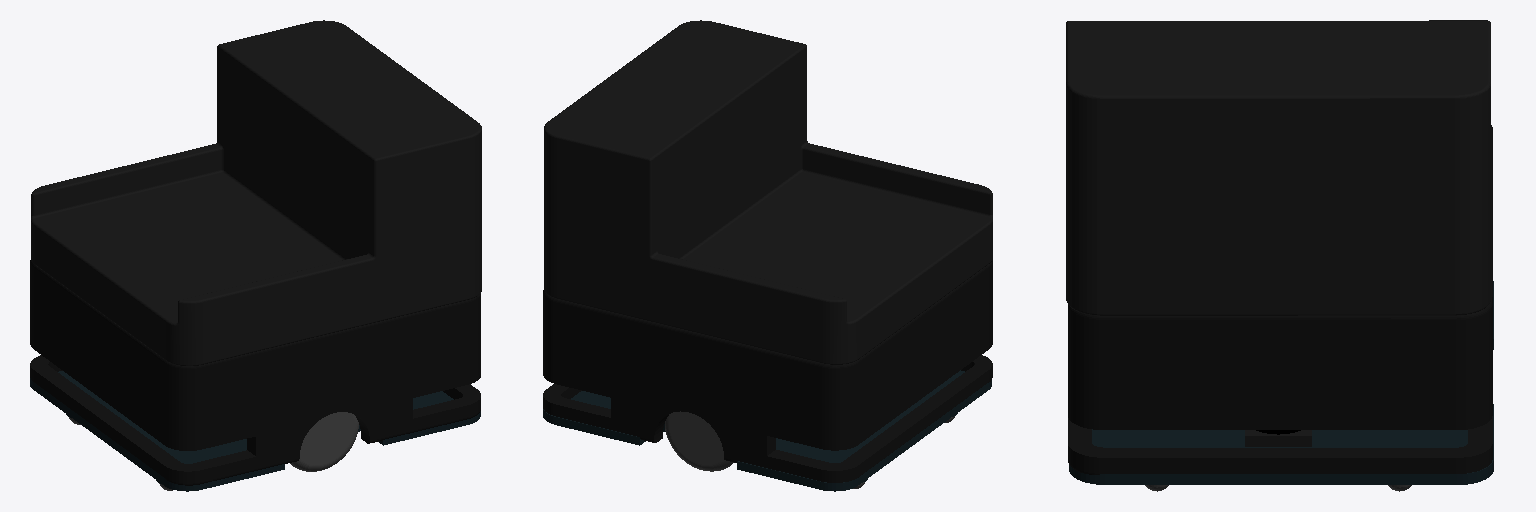
--- What the picture shows (computed from the rendered views, not written in the file) ---
3 views of the same robot in one strip: view 1: azimuth 30°, elevation 25°; view 2: azimuth 150°, elevation 25°; view 3: azimuth 270°, elevation 25° (orthographic).
Robot: Melon — 41 links, 40 joints (7 revolute, 14 continuous, 2 prismatic, 17 fixed); root link base_footprint; default pose: joints at zero except 2 at the middle of their limits (fr3_joint4 = -1.6, fr3_joint6 = 2.53).
Links seen in each view (by area): view 1: base_link, right_wheel_1; view 2: base_link, left_wheel_1; view 3: base_link, base_scan.
Boxes of the visible links, x1,y1,x2,y2 form: base_link: (30,20,481,491); right_wheel_1: (290,412,358,471); base_link: (543,20,992,491); left_wheel_1: (665,411,733,471); base_link: (1066,20,1493,484); base_scan: (1245,430,1311,446).
Size in the robot's own frame: 0.8005 by 0.7056 by 0.765 metres.
Meshes: 17 distinct files referenced, 10 mesh visuals loaded (7 binary STL); not drawn: 11 (reference not matched to a file when rendering), 1 (reference in a form the renderer does not follow; not among the files counted above).

robot.urdf — Melon:
<?xml version="1.0" ?>
<!-- =================================================================================== -->
<!-- |    This document was autogenerated by xacro from melon.urdf.xacro               | -->
<!-- |    EDITING THIS FILE BY HAND IS NOT RECOMMENDED                                 | -->
<!-- =================================================================================== -->
<robot name="Melon">
  <material name="dark_blue">
    <color rgba="0.0 0.5 0.576 1.0"/>
  </material>
  <material name="black">
    <color rgba="0.0 0.0 0.0 1.0"/>
  </material>
  <material name="dark_black">
    <color rgba="0.1 0.1 0.1 1.0"/>
  </material>
  <material name="dark">
    <color rgba="0.3 0.3 0.3 1.0"/>
  </material>
  <material name="silver">
    <color rgba="0.700 0.700 0.700 1.000"/>
  </material>
  <material name="smokey_blue">
    <color rgba="0.25 0.31 0.33 1.00"/>
  </material>
  <material name="midnight_blue">
    <color rgba="0.10 0.15 0.17 1.0"/>
  </material>
  <material name="gray_blue">
    <color rgba="0.271 0.294 0.306 1.0"/>
  </material>
  <material name="ocean_blue">
    <color rgba="0.247 0.400 0.627 1.0"/>
  </material>
  <material name="charcoal">
    <color rgba="0.129 0.129 0.129 1.0"/>
  </material>
  <material name="steel_gray">
    <color rgba="0.325 0.376 0.392 1.0"/>
  </material>
  <!-- <xacro:include filename="$(find melon_description)/urdf/base_v2.gazebo.xacro" /> -->
  <!-- <xacro:base prefix=""/> -->
  <material name="aluminum">
    <color rgba="0.5 0.5 0.5 1"/>
  </material>
  <material name="plastic">
    <color rgba="0.1 0.1 0.1 1"/>
  </material>
  <!-- base -->
  <link name="base_footprint"/>
  <joint name="base_joint" type="fixed">
    <parent link="base_footprint"/>
    <child link="base_link"/>
    <origin rpy="0 0 0" xyz="0 0 0"/>
  </joint>
  <link name="base_link">
    <inertial>
      <origin rpy="0 0 1.57" xyz="0.01744420260337036 0.0763481410355218 0.4235647920657504"/>
      <mass value="50.0"/>
      <inertia ixx="16.050446" ixy="0.002034" ixz="0.007151" iyy="13.982493" iyz="-2.999695" izz="18.567703"/>
    </inertial>
    <!-- <visual>
        <origin xyz="0 0 0" rpy="0 0 1.57"/>
        <geometry>
          <mesh filename="package://melon_description/meshes/base_link.stl" scale="0.001 0.001 0.001"/>
        </geometry>
        <material name="silver"/>
      </visual>
      <collision>
        <origin xyz="0 0 0" rpy="0 0 1.57"/>
        <geometry>
          <mesh filename="package://melon_description/meshes/base_link.stl" scale="0.001 0.001 0.001"/>
        </geometry>
      </collision> -->
    <!-- body -->
    <visual>
      <origin rpy="0 0 1.57" xyz="-0.002 0.005 0.05"/>
      <geometry>
        <mesh filename="package://melon_description/meshes/body_1.stl" scale="0.001 0.001 0.001"/>
      </geometry>
      <material name="midnight_blue"/>
    </visual>
    <collision>
      <origin rpy="0 0 1.57" xyz="-0.002 0.005 0.05"/>
      <geometry>
        <mesh filename="package://melon_description/meshes/body_1.stl" scale="0.001 0.001 0.001"/>
      </geometry>
    </collision>
    <visual>
      <origin rpy="0 0 1.57" xyz="0.0075 0.678 0.069"/>
      <geometry>
        <mesh filename="package://melon_description/meshes/body_2.stl" scale="0.001 0.001 0.001"/>
      </geometry>
      <material name="dark_black"/>
    </visual>
    <collision>
      <origin rpy="0 0 1.57" xyz="0.0075 0.678 0.069"/>
      <geometry>
        <mesh filename="package://melon_description/meshes/body_2.stl" scale="0.001 0.001 0.001"/>
      </geometry>
    </collision>
    <visual>
      <origin rpy="0 0 -1.57" xyz="0.027 0.025 0.37"/>
      <geometry>
        <mesh filename="package://melon_description/meshes/body_3.stl" scale="0.001 0.001 0.001"/>
      </geometry>
      <material name="charcoal"/>
    </visual>
    <collision>
      <!-- <origin xyz="0.027 0.025 0.37" rpy="0 0 -1.57"/>
        <geometry>
          <mesh filename="package://melon_description/meshes/body_3.stl" scale="0.001 0.001 0.001"/>
        </geometry> -->
      <origin rpy="0 0 0" xyz="0.008 0.0 0.415"/>
      <geometry>
        <box size="0.8 0.7 0.1"/>
      </geometry>
    </collision>
    <collision>
      <origin rpy="0 0 0" xyz="0.258 0.0 0.615"/>
      <geometry>
        <box size="0.3 0.7 0.3"/>
      </geometry>
    </collision>
    <collision>
      <origin rpy="0 0 0" xyz="-0.14 0.335 0.495"/>
      <geometry>
        <box size="0.5 0.03 0.06"/>
      </geometry>
    </collision>
    <collision>
      <origin rpy="0 0 0" xyz="-0.14 -0.335 0.495"/>
      <geometry>
        <box size="0.5 0.03 0.06"/>
      </geometry>
    </collision>
    <!-- caster mount -->
    <visual>
      <origin rpy="3.14 0 1.57" xyz="0.3 0.200 0.06"/>
      <geometry>
        <mesh filename="package://melon_description/meshes/ballfoint.stl" scale="0.001 0.001 0.001"/>
      </geometry>
      <material name="midnight_blue"/>
    </visual>
    <collision>
      <origin rpy="3.14 0 1.57" xyz="0.3 0.200 0.06"/>
      <geometry>
        <mesh filename="package://melon_description/meshes/ballfoint.stl" scale="0.001 0.001 0.001"/>
      </geometry>
    </collision>
    <visual>
      <origin rpy="3.14 0 1.57" xyz="0.3 -0.200 0.06"/>
      <geometry>
        <mesh filename="package://melon_description/meshes/ballfoint.stl" scale="0.001 0.001 0.001"/>
      </geometry>
      <material name="midnight_blue"/>
    </visual>
    <collision>
      <origin rpy="3.14 0 1.57" xyz="0.3 -0.200 0.06"/>
      <geometry>
        <mesh filename="package://melon_description/meshes/ballfoint.stl" scale="0.001 0.001 0.001"/>
      </geometry>
    </collision>
    <visual>
      <origin rpy="3.14 0 1.57" xyz="-0.33 0.200 0.06"/>
      <geometry>
        <mesh filename="package://melon_description/meshes/ballfoint.stl" scale="0.001 0.001 0.001"/>
      </geometry>
      <material name="midnight_blue"/>
    </visual>
    <collision>
      <origin rpy="3.14 0 1.57" xyz="-0.33 0.200 0.06"/>
      <geometry>
        <mesh filename="package://melon_description/meshes/ballfoint.stl" scale="0.001 0.001 0.001"/>
      </geometry>
    </collision>
    <visual>
      <origin rpy="3.14 0 1.57" xyz="-0.33 -0.200 0.06"/>
      <geometry>
        <mesh filename="package://melon_description/meshes/ballfoint.stl" scale="0.001 0.001 0.001"/>
      </geometry>
      <material name="midnight_blue"/>
    </visual>
    <collision>
      <origin rpy="3.14 0 1.57" xyz="-0.33 -0.200 0.06"/>
      <geometry>
        <mesh filename="package://melon_description/meshes/ballfoint.stl" scale="0.001 0.001 0.001"/>
      </geometry>
    </collision>
  </link>
  <!-- wheels -->
  <joint name="right_wheel_joint" type="continuous">
    <origin rpy="0 0 1.57" xyz="0.007002 -0.242002 0.10065"/>
    <parent link="base_link"/>
    <child link="right_wheel_1"/>
    <axis xyz="1.0 0.0 0.0"/>
    <dynamics damping="1.0"/>
  </joint>
  <link name="right_wheel_1">
    <inertial>
      <origin rpy="0 0 0" xyz="-0.020080456317257633 -2.190901024334141e-07 -9.838097278502822e-08"/>
      <mass value="0.5"/>
      <inertia ixx="0.005139" ixy="-0.0" ixz="-0.0" iyy="0.002706" iyz="0.0" izz="0.002706"/>
    </inertial>
    <visual>
      <origin rpy="0 0 0" xyz="0.242002 0.007002 -0.10065"/>
      <geometry>
        <mesh filename="package://melon_description/meshes/right_wheel_1.stl" scale="0.001 0.001 0.001"/>
      </geometry>
      <material name="dark"/>
    </visual>
    <collision>
      <origin rpy="0 1.57 0" xyz="-0.04 0.0 0.0"/>
      <geometry>
        <cylinder length="0.05" radius="0.10065"/>
      </geometry>
    </collision>
  </link>
  <joint name="left_wheel_joint" type="continuous">
    <origin rpy="0 0 1.57" xyz="0.007002 0.279998 0.10065"/>
    <parent link="base_link"/>
    <child link="left_wheel_1"/>
    <axis xyz="1.0 0.0 0.0"/>
    <dynamics damping="1.0"/>
  </joint>
  <link name="left_wheel_1">
    <inertial>
      <origin rpy="0 0 0" xyz="0.019919543682742402 -2.1909010231892234e-07 -9.838097249359468e-08"/>
      <mass value="0.5"/>
      <inertia ixx="0.005139" ixy="0.0" ixz="0.0" iyy="0.002706" iyz="0.0" izz="0.002706"/>
    </inertial>
    <visual>
      <origin rpy="0 0 0" xyz="-0.277998 0.007002 -0.10065"/>
      <geometry>
        <mesh filename="package://melon_description/meshes/left_wheel_1.stl" scale="0.001 0.001 0.001"/>
      </geometry>
      <material name="dark"/>
    </visual>
    <collision>
      <origin rpy="0 1.57 0" xyz="0.01 0.0 0.0"/>
      <geometry>
        <cylinder length="0.05" radius="0.10065"/>
      </geometry>
    </collision>
  </link>
  <!-- passive wheel -->
  <!-- front left -->
  <joint name="front_left_passive_wheel_x_frame_joint" type="continuous">
    <parent link="base_link"/>
    <child link="front_left_passive_wheel_x_frame"/>
    <axis xyz="1.0 0.0 0.0"/>
    <limit effort="1.0" velocity="3.0"/>
    <origin rpy="0 0 0" xyz="0.3 0.2 0.025"/>
    <dynamics damping="1.0"/>
  </joint>
  <link name="front_left_passive_wheel_x_frame">
    <inertial>
      <mass value="0.2"/>
      <origin xyz="0 0 0"/>
      <inertia ixx="0.001" ixy="0" ixz="0" iyy="0.001" iyz="0" izz="0.001"/>
    </inertial>
  </link>
  <joint name="front_left_passive_wheel_y_frame_joint" type="continuous">
    <parent link="front_left_passive_wheel_x_frame"/>
    <child link="front_left_passive_wheel_y_frame"/>
    <axis xyz="0.0 1.0 0.0"/>
    <limit effort="1.0" velocity="3.0"/>
    <origin rpy="0 0 0" xyz="0 0 0"/>
    <dynamics damping="1.0"/>
  </joint>
  <link name="front_left_passive_wheel_y_frame">
    <inertial>
      <mass value="0.2"/>
      <origin xyz="0 0 0"/>
      <inertia ixx="0.001" ixy="0" ixz="0" iyy="0.001" iyz="0" izz="0.001"/>
    </inertial>
  </link>
  <joint name="front_left_passive_wheel_z_frame_joint" type="continuous">
    <parent link="front_left_passive_wheel_y_frame"/>
    <child link="front_left_passive_wheel_z_link"/>
    <axis xyz="0.0 0.0 1.0"/>
    <limit effort="1.0" velocity="3.0"/>
    <origin rpy="0 0 0" xyz="0 0 0"/>
    <dynamics damping="1.0"/>
  </joint>
  <link name="front_left_passive_wheel_z_link">
    <visual>
      <geometry>
        <sphere radius="0.025"/>
      </geometry>
      <material name="dark"/>
    </visual>
    <collision>
      <geometry>
        <sphere radius="0.025"/>
      </geometry>
    </collision>
    <inertial>
      <mass value="0.2"/>
      <origin xyz="0 0 0"/>
      <inertia ixx="0.001" ixy="0" ixz="0" iyy="0.001" iyz="0" izz="0.001"/>
    </inertial>
  </link>
  <!-- front right -->
  <joint name="front_right_passive_wheel_x_frame_joint" type="continuous">
    <parent link="base_link"/>
    <child link="front_right_passive_wheel_x_frame"/>
    <axis xyz="1.0 0.0 0.0"/>
    <limit effort="1.0" velocity="3.0"/>
    <origin rpy="0 0 0" xyz="0.3 -0.2 0.025"/>
    <dynamics damping="1.0"/>
  </joint>
  <link name="front_right_passive_wheel_x_frame">
    <inertial>
      <mass value="0.2"/>
      <origin xyz="0 0 0"/>
      <inertia ixx="0.001" ixy="0" ixz="0" iyy="0.001" iyz="0" izz="0.001"/>
    </inertial>
  </link>
  <joint name="front_right_passive_wheel_y_frame_joint" type="continuous">
    <parent link="front_right_passive_wheel_x_frame"/>
    <child link="front_right_passive_wheel_y_frame"/>
    <axis xyz="0.0 1.0 0.0"/>
    <limit effort="1.0" velocity="3.0"/>
    <origin rpy="0 0 0" xyz="0 0 0"/>
    <dynamics damping="1.0"/>
  </joint>
  <link name="front_right_passive_wheel_y_frame">
    <inertial>
      <mass value="0.2"/>
      <origin xyz="0 0 0"/>
      <inertia ixx="0.001" ixy="0" ixz="0" iyy="0.001" iyz="0" izz="0.001"/>
    </inertial>
  </link>
  <joint name="front_right_passive_wheel_z_frame_joint" type="continuous">
    <parent link="front_right_passive_wheel_y_frame"/>
    <child link="front_right_passive_wheel_z_link"/>
    <axis xyz="0.0 0.0 1.0"/>
    <limit effort="1.0" velocity="3.0"/>
    <origin rpy="0 0 0" xyz="0 0 0"/>
    <dynamics damping="1.0"/>
  </joint>
  <link name="front_right_passive_wheel_z_link">
    <visual>
      <geometry>
        <sphere radius="0.025"/>
      </geometry>
      <material name="dark"/>
    </visual>
    <collision>
      <geometry>
        <sphere radius="0.025"/>
      </geometry>
    </collision>
    <inertial>
      <mass value="0.2"/>
      <origin xyz="0 0 0"/>
      <inertia ixx="0.001" ixy="0" ixz="0" iyy="0.001" iyz="0" izz="0.001"/>
    </inertial>
  </link>
  <!-- back left-->
  <joint name="back_left_passive_wheel_x_frame_joint" type="continuous">
    <parent link="base_link"/>
    <child link="back_left_passive_wheel_x_frame"/>
    <axis xyz="1.0 0.0 0.0"/>
    <limit effort="1.0" velocity="3.0"/>
    <origin rpy="0 0 0" xyz="-0.33 0.2 0.025"/>
    <dynamics damping="1.0"/>
  </joint>
  <link name="back_left_passive_wheel_x_frame">
    <inertial>
      <mass value="0.2"/>
      <origin xyz="0 0 0"/>
      <inertia ixx="0.001" ixy="0" ixz="0" iyy="0.001" iyz="0" izz="0.001"/>
    </inertial>
  </link>
  <joint name="back_left_passive_wheel_y_frame_joint" type="continuous">
    <parent link="back_left_passive_wheel_x_frame"/>
    <child link="back_left_passive_wheel_y_frame"/>
    <axis xyz="0.0 1.0 0.0"/>
    <limit effort="1.0" velocity="3.0"/>
    <origin rpy="0 0 0" xyz="0 0 0"/>
    <dynamics damping="1.0"/>
  </joint>
  <link name="back_left_passive_wheel_y_frame">
    <inertial>
      <mass value="0.2"/>
      <origin xyz="0 0 0"/>
      <inertia ixx="0.001" ixy="0" ixz="0" iyy="0.001" iyz="0" izz="0.001"/>
    </inertial>
  </link>
  <joint name="back_left_passive_wheel_z_frame_joint" type="continuous">
    <parent link="back_left_passive_wheel_y_frame"/>
    <child link="back_left_passive_wheel_z_link"/>
    <axis xyz="0.0 0.0 1.0"/>
    <limit effort="1.0" velocity="3.0"/>
    <origin rpy="0 0 0" xyz="0 0 0"/>
    <dynamics damping="1.0"/>
  </joint>
  <link name="back_left_passive_wheel_z_link">
    <visual>
      <geometry>
        <sphere radius="0.025"/>
      </geometry>
      <material name="dark"/>
    </visual>
    <collision>
      <geometry>
        <sphere radius="0.025"/>
      </geometry>
    </collision>
    <inertial>
      <mass value="0.2"/>
      <origin xyz="0 0 0"/>
      <inertia ixx="0.001" ixy="0" ixz="0" iyy="0.001" iyz="0" izz="0.001"/>
    </inertial>
  </link>
  <!-- back right-->
  <joint name="back_right_passive_wheel_x_frame_joint" type="continuous">
    <parent link="base_link"/>
    <child link="back_right_passive_wheel_x_frame"/>
    <axis xyz="1.0 0.0 0.0"/>
    <limit effort="1.0" velocity="3.0"/>
    <origin rpy="0 0 0" xyz="-0.33 -0.2 0.025"/>
    <dynamics damping="1.0"/>
  </joint>
  <link name="back_right_passive_wheel_x_frame">
    <inertial>
      <mass value="0.2"/>
      <origin xyz="0 0 0"/>
      <inertia ixx="0.001" ixy="0" ixz="0" iyy="0.001" iyz="0" izz="0.001"/>
    </inertial>
  </link>
  <joint name="back_right_passive_wheel_y_frame_joint" type="continuous">
    <parent link="back_right_passive_wheel_x_frame"/>
    <child link="back_right_passive_wheel_y_frame"/>
    <axis xyz="0.0 1.0 0.0"/>
    <limit effort="1.0" velocity="3.0"/>
    <origin rpy="0 0 0" xyz="0 0 0"/>
    <dynamics damping="1.0"/>
  </joint>
  <link name="back_right_passive_wheel_y_frame">
    <inertial>
      <mass value="0.2"/>
      <origin xyz="0 0 0"/>
      <inertia ixx="0.001" ixy="0" ixz="0" iyy="0.001" iyz="0" izz="0.001"/>
    </inertial>
  </link>
  <joint name="back_right_passive_wheel_z_frame_joint" type="continuous">
    <parent link="back_right_passive_wheel_y_frame"/>
    <child link="back_right_passive_wheel_z_link"/>
    <axis xyz="0.0 0.0 1.0"/>
    <limit effort="1.0" velocity="3.0"/>
    <origin rpy="0 0 0" xyz="0 0 0"/>
    <dynamics damping="1.0"/>
  </joint>
  <link name="back_right_passive_wheel_z_link">
    <visual>
      <geometry>
        <sphere radius="0.025"/>
      </geometry>
      <material name="dark"/>
    </visual>
    <collision>
      <geometry>
        <sphere radius="0.025"/>
      </geometry>
    </collision>
    <inertial>
      <mass value="0.2"/>
      <origin xyz="0 0 0"/>
      <inertia ixx="0.001" ixy="0" ixz="0" iyy="0.001" iyz="0" izz="0.001"/>
    </inertial>
  </link>
  <!-- base_scan -->
  <joint name="base_scan_joint" type="fixed">
    <parent link="base_link"/>
    <child link="base_scan"/>
    <origin rpy="0 0 0" xyz="0.28 0  0.125"/>
  </joint>
  <link name="base_scan">
    <inertial>
      <origin rpy="0 0 0" xyz="0 0 0"/>
      <mass value="0.25"/>
      <inertia ixx="0.0001" ixy="0.0" ixz="0.0" iyy="0.0001" iyz="0.0" izz="0.0001"/>
    </inertial>
    <visual>
      <origin rpy="0 0 0" xyz="0 0.28 -0.125"/>
      <geometry>
        <mesh filename="package://melon_description/meshes/lider_1.stl" scale="0.001 0.001 0.001"/>
      </geometry>
      <material name="black"/>
    </visual>
    <collision>
      <origin rpy="0 0 0" xyz="0 0 0"/>
      <geometry>
        <cylinder length="0.05" radius="0.05"/>
      </geometry>
    </collision>
    <visual>
      <origin rpy="0 0 0" xyz="0 0 -0.02"/>
      <geometry>
        <box size="0.11 0.11 0.02"/>
      </geometry>
      <material name="charcoal"/>
    </visual>
    <collision>
      <origin rpy="0 0 0" xyz="0 0 -0.02"/>
      <geometry>
        <box size="0.11 0.11 0.02"/>
      </geometry>
    </collision>
  </link>
  <!-- mount -->
  <link name="mid_mount"/>
  <joint name="mid_mount_joint" type="fixed">
    <parent link="base_link"/>
    <child link="mid_mount"/>
    <origin rpy="0 0 1.57" xyz="0.3 0 0.765"/>
  </joint>
  <!-- safety_distance: Minimum safety distance in [m] by which the collision volumes are expanded and which is enforced during robot motions -->
  <!-- arm_id: Namespace of the robot arm. Serves to differentiate between arms in case of multiple instances. -->
  <!-- joint_limits: description of the joint limits that comes from a YAML file. Example definition: ${xacro.load_yaml('$(find franka_description)/robots/fr3/joint_limits.yaml')} -->
  <!-- kinematics: description of the kinematics that comes from a YAML file. Example definition: ${xacro.load_yaml('$(find franka_description)/robots/fr3/kinematics.yaml')} -->
  <!-- inertials: description of the inertials that comes from a YAML file. Example definition: ${xacro.load_yaml('$(find franka_description)/robots/fr3/inertials.yaml')} -->
  <!-- dynamics: description of the dynamics that comes from a YAML file. Example definition: ${xacro.load_yaml('$(find franka_description)/robots/fr3/dynamics.yaml')} -->
  <!-- sub-link defining detailed meshes for collision with environment -->
  <link name="fr3_link0">
    <visual name="fr3_link0_visual">
      <geometry>
        <mesh filename="package://franka_description/meshes/robot_arms/fr3/visual/link0.dae"/>
      </geometry>
    </visual>
    <collision name="fr3_link0_collision">
      <geometry>
        <mesh filename="package://franka_description/meshes/robot_arms/fr3/collision/link0.stl"/>
      </geometry>
    </collision>
    <inertial>
      <origin rpy="0 0 0" xyz="-0.0172 0.0004 0.0745"/>
      <mass value="2.3966"/>
      <inertia ixx="0.009" ixy="0.0" ixz="0.002" iyy="0.0115" iyz="0.0" izz="0.0085"/>
    </inertial>
  </link>
  <!-- sub-link defining detailed meshes for collision with environment -->
  <link name="fr3_link1">
    <visual name="fr3_link1_visual">
      <geometry>
        <mesh filename="package://franka_description/meshes/robot_arms/fr3/visual/link1.dae"/>
      </geometry>
    </visual>
    <collision name="fr3_link1_collision">
      <geometry>
        <mesh filename="package://franka_description/meshes/robot_arms/fr3/collision/link1.stl"/>
      </geometry>
    </collision>
    <inertial>
      <origin rpy="0 0 0" xyz="0.0000004128 -0.0181251324 -0.0386035970"/>
      <mass value="2.9274653454"/>
      <inertia ixx="0.023927316485107913" ixy="1.3317903455714081e-05" ixz="-0.00011404774918616684" iyy="0.0224821613275756" iyz="-0.0019950320628240115" izz="0.006350098258530016"/>
    </inertial>
  </link>
  <joint name="fr3_joint1" type="revolute">
    <origin rpy="0 0 0" xyz="0 0 0.333"/>
    <parent link="fr3_link0"/>
    <child link="fr3_link1"/>
    <axis xyz="0 0 1"/>
    <limit effort="87.0" lower="-2.7437" upper="2.7437" velocity="2.62"/>
    <safety_controller k_position="100.0" k_velocity="40.0" soft_lower_limit="-2.7437" soft_upper_limit="2.7437"/>
    <dynamics D="1" K="7000" damping="0.003" friction="0.2" mu_coulomb="0" mu_viscous="16"/>
  </joint>
  <!-- sub-link defining detailed meshes for collision with environment -->
  <link name="fr3_link2">
    <visual name="fr3_link2_visual">
      <geometry>
        <mesh filename="package://franka_description/meshes/robot_arms/fr3/visual/link2.dae"/>
      </geometry>
    </visual>
    <collision name="fr3_link2_collision">
      <geometry>
        <mesh filename="package://franka_description/meshes/robot_arms/fr3/collision/link2.stl"/>
      </geometry>
    </collision>
    <inertial>
      <origin rpy="0 0 0" xyz="0.0031828864 -0.0743221644 0.0088146084"/>
      <mass value="2.9355370338"/>
      <inertia ixx="0.041938946257609425" ixy="0.00020257331521090626" ixz="0.004077784227179924" iyy="0.02514514885014724" iyz="-0.0042252158006570156" izz="0.06170214472888839"/>
    </inertial>
  </link>
  <joint name="fr3_joint2" type="revolute">
    <origin rpy="-1.570796326794897 0 0" xyz="0 0 0"/>
    <parent link="fr3_link1"/>
    <child link="fr3_link2"/>
    <axis xyz="0 0 1"/>
    <limit effort="87.0" lower="-1.7837" upper="1.7837" velocity="2.62"/>
    <safety_controller k_position="100.0" k_velocity="40.0" soft_lower_limit="-1.7837" soft_upper_limit="1.7837"/>
    <dynamics D="1" K="7000" damping="0.003" friction="0.2" mu_coulomb="0" mu_viscous="16"/>
  </joint>
  <!-- sub-link defining detailed meshes for collision with environment -->
  <link name="fr3_link3">
    <visual name="fr3_link3_visual">
      <geometry>
        <mesh filename="package://franka_description/meshes/robot_arms/fr3/visual/link3.dae"/>
      </geometry>
    </visual>
    <collision name="fr3_link3_collision">
      <geometry>
        <mesh filename="package://franka_description/meshes/robot_arms/fr3/collision/link3.stl"/>
      </geometry>
    </collision>
    <inertial>
      <origin rpy="0 0 0" xyz="0.0407015686 -0.0048200565 -0.0289730823"/>
      <mass value="2.2449013699"/>
      <inertia ixx="0.02410142547240885" ixy="0.002404694559042109" ixz="-0.002856269270114313" iyy="0.01974053266708178" iyz="-0.002104212683891874" izz="0.019044494482244823"/>
    </inertial>
  </link>
  <joint name="fr3_joint3" type="revolute">
    <origin rpy="1.570796326794897 0 0" xyz="0 -0.316 0"/>
    <parent link="fr3_link2"/>
    <child link="fr3_link3"/>
    <axis xyz="0 0 1"/>
    <limit effort="87.0" lower="-2.9007" upper="2.9007" velocity="2.62"/>
    <safety_controller k_position="100.0" k_velocity="40.0" soft_lower_limit="-2.9007" soft_upper_limit="2.9007"/>
    <dynamics D="1" K="7000" damping="0.003" friction="0.2" mu_coulomb="0" mu_viscous="16"/>
  </joint>
  <!-- sub-link defining detailed meshes for collision with environment -->
  <link name="fr3_link4">
    <visual name="fr3_link4_visual">
      <geometry>
        <mesh filename="package://franka_description/meshes/robot_arms/fr3/visual/link4.dae"/>
      </geometry>
    </visual>
    <collision name="fr3_link4_collision">
      <geometry>
        <mesh filename="package://franka_description/meshes/robot_arms/fr3/collision/link4.stl"/>
      </geometry>
    </collision>
    <inertial>
      <origin rpy="0 0 0" xyz="-0.0459100965 0.0630492960 -0.0085187868"/>
      <mass value="2.6155955791"/>
      <inertia ixx="0.03452998321913202" ixy="0.01322552265982813" ixz="0.01015142998484113" iyy="0.028881621933049058" iyz="-0.0009762833870704552" izz="0.04125471171146641"/>
    </inertial>
  </link>
  <joint name="fr3_joint4" type="revolute">
    <origin rpy="1.570796326794897 0 0" xyz="0.0825 0 0"/>
    <parent link="fr3_link3"/>
    <child link="fr3_link4"/>
    <axis xyz="0 0 1"/>
    <limit effort="87.0" lower="-3.0421" upper="-0.1518" velocity="2.62"/>
    <safety_controller k_position="100.0" k_velocity="40.0" soft_lower_limit="-3.0421" soft_upper_limit="-0.1518"/>
    <dynamics D="1" K="7000" damping="0.003" friction="0.2" mu_coulomb="0" mu_viscous="16"/>
  </joint>
  <!-- sub-link defining detailed meshes for collision with environment -->
  <link name="fr3_link5">
    <visual name="fr3_link5_visual">
      <geometry>
        <mesh filename="package://franka_description/meshes/robot_arms/fr3/visual/link5.dae"/>
      </geometry>
    </visual>
    <collision name="fr3_link5_collision">
      <geometry>
        <mesh filename="package://franka_description/meshes/robot_arms/fr3/collision/link5.stl"/>
      </geometry>
    </collision>
    <inertial>
      <origin rpy="0 0 0" xyz="-0.0016039605 0.0292536262 -0.0972965990"/>
      <mass value="2.3271207594"/>
      <inertia ixx="0.051610278463662895" ixy="-0.005715173387783472" ixz="-0.0035673167625872135" iyy="0.04787729713371481" iyz="0.010673985108535986" izz="0.016423625579357254"/>
    </inertial>
  </link>
  <joint name="fr3_joint5" type="revolute">
    <origin rpy="-1.570796326794897 0 0" xyz="-0.0825 0.384 0"/>
    <parent link="fr3_link4"/>
    <child link="fr3_link5"/>
    <axis xyz="0 0 1"/>
    <limit effort="12.0" lower="-2.8065" upper="2.8065" velocity="5.26"/>
    <safety_controller k_position="100.0" k_velocity="40.0" soft_lower_limit="-2.8065" soft_upper_limit="2.8065"/>
    <dynamics D="1" K="7000" damping="0.003" friction="0.2" mu_coulomb="0" mu_viscous="16"/>
  </joint>
  <!-- sub-link defining detailed meshes for collision with environment -->
  <link name="fr3_link6">
    <visual name="fr3_link6_visual">
      <geometry>
        <mesh filename="package://franka_description/meshes/robot_arms/fr3/visual/link6.dae"/>
      </geometry>
    </visual>
    <collision name="fr3_link6_collision">
      <geometry>
        <mesh filename="package://franka_description/meshes/robot_arms/fr3/collision/link6.stl"/>
      </geometry>
    </collision>
    <inertial>
      <origin rpy="0 0 0" xyz="0.0597131221 -0.0410294666 -0.0101692726"/>
      <mass value="1.8170376524"/>
      <inertia ixx="0.005412333594383447" ixy="0.006193456360285834" ixz="0.0014219289306117652" iyy="0.014058329545509979" iyz="-0.0013140753741120031" izz="0.016080817924212554"/>
    </inertial>
  </link>
  <joint name="fr3_joint6" type="revolute">
    <origin rpy="1.570796326794897 0 0" xyz="0 0 0"/>
    <parent link="fr3_link5"/>
    <child link="fr3_link6"/>
    <axis xyz="0 0 1"/>
    <limit effort="12.0" lower="0.5445" upper="4.5169" velocity="4.18"/>
    <safety_controller k_position="100.0" k_velocity="40.0" soft_lower_limit="0.5445" soft_upper_limit="4.5169"/>
    <dynamics D="1" K="7000" damping="0.003" friction="0.2" mu_coulomb="0" mu_viscous="16"/>
  </joint>
  <!-- sub-link defining detailed meshes for collision with environment -->
  <link name="fr3_link7">
    <visual name="fr3_link7_visual">
      <geometry>
        <mesh filename="package://franka_description/meshes/robot_arms/fr3/visual/link7.dae"/>
      </geometry>
    </visual>
    <collision name="fr3_link7_collision">
      <geometry>
        <mesh filename="package://franka_description/meshes/robot_arms/fr3/collision/link7.stl"/>
      </geometry>
    </collision>
    <inertial>
      <origin rpy="0 0 0" xyz="0.0045225817 0.0086261921 -0.0161633251"/>
      <mass value="0.6271432862"/>
      <inertia ixx="0.00021092389150104718" ixy="-2.433299114461931e-05" ixz="4.564480393778983e-05" iyy="0.00017718568002411474" iyz="8.744070223226438e-05" izz="5.993190599659971e-05"/>
    </inertial>
  </link>
  <joint name="fr3_joint7" type="revolute">
    <origin rpy="1.570796326794897 0 0" xyz="0.088 0 0"/>
    <parent link="fr3_link6"/>
    <child link="fr3_link7"/>
    <axis xyz="0 0 1"/>
    <limit effort="12.0" lower="-3.0159" upper="3.0159" velocity="5.26"/>
    <safety_controller k_position="100.0" k_velocity="40.0" soft_lower_limit="-3.0159" soft_upper_limit="3.0159"/>
    <dynamics D="1" K="7000" damping="0.003" friction="0.2" mu_coulomb="0" mu_viscous="16"/>
  </joint>
  <link name="fr3_link8"/>
  <joint name="fr3_joint8" type="fixed">
    <origin rpy="0 0 0" xyz="0 0 0.107"/>
    <parent link="fr3_link7"/>
    <child link="fr3_link8"/>
  </joint>
  <joint name="fr3_hand_joint" type="fixed">
    <parent link="fr3_link8"/>
    <child link="fr3_hand"/>
    <origin rpy="0 0 -0.7853981633974483" xyz="0 0 0"/>
  </joint>
  <!-- sub-link defining detailed meshes for collision with environment -->
  <link name="fr3_hand">
    <visual name="fr3_hand_visual">
      <geometry>
        <mesh filename="package://franka_description/meshes/robot_ee/franka_hand_white/visual/hand.dae"/>
      </geometry>
    </visual>
    <collision name="fr3_hand_collision">
      <geometry>
        <mesh filename="package://franka_description/meshes/robot_ee/franka_hand_white/collision/hand.stl"/>
      </geometry>
    </collision>
    <inertial>
      <origin rpy="0 0 0" xyz="-0.0000376 0.0119128 0.0207260"/>
      <mass value="0.6544"/>
      <inertia ixx="0.00186" ixy="0.0" ixz="0.0" iyy="0.0003" iyz="-2e-05" izz="0.00174"/>
    </inertial>
  </link>
  <!-- Define the hand_tcp frame -->
  <link name="fr3_hand_tcp"/>
  <joint name="fr3_hand_tcp_joint" type="fixed">
    <origin rpy="0 0 0" xyz="0 0 0.1034"/>
    <parent link="fr3_hand"/>
    <child link="fr3_hand_tcp"/>
  </joint>
  <link name="fr3_leftfinger">
    <visual name="fr3_leftfinger_visual">
      <geometry>
        <mesh filename="package://franka_description/meshes/robot_ee/franka_hand_white/visual/finger.dae"/>
      </geometry>
    </visual>
    <!-- screw mount -->
    <collision>
      <origin rpy="0 0 0" xyz="0 18.5e-3 11e-3"/>
      <geometry>
        <box size="22e-3 15e-3 20e-3"/>
      </geometry>
    </collision>
    <!-- cartriage sledge -->
    <collision>
      <origin rpy="0 0 0" xyz="0 6.8e-3 2.2e-3"/>
      <geometry>
        <box size="22e-3 8.8e-3 3.8e-3"/>
      </geometry>
    </collision>
    <!-- diagonal finger -->
    <collision>
      <origin rpy="0.5235987755982988 0 0" xyz="0 15.9e-3 28.35e-3"/>
      <geometry>
        <box size="17.5e-3 7e-3 23.5e-3"/>
      </geometry>
    </collision>
    <!-- rubber tip with which to grasp -->
    <collision>
      <origin rpy="0 0 0" xyz="0 7.58e-3 45.25e-3"/>
      <geometry>
        <box size="17.5e-3 15.2e-3 18.5e-3"/>
      </geometry>
    </collision>
    <inertial>
      <origin rpy="0 0 0" xyz="0 0.0152850 0.0219675"/>
      <mass value="0.0291"/>
      <inertia ixx="8.49e-06" ixy="0.0" ixz="0.0" iyy="8.53e-06" iyz="-1.06e-06" izz="1.77e-06"/>
    </inertial>
  </link>
  <link name="fr3_rightfinger">
    <visual name="fr3_rightfinger_visual">
      <origin rpy="0 0 0" xyz="0 0 0"/>
      <geometry>
        <mesh filename="package://franka_description/meshes/robot_ee/franka_hand_white/visual/finger.dae"/>
      </geometry>
    </visual>
    <!-- screw mount -->
    <collision>
      <origin rpy="0 0 0" xyz="0 18.5e-3 11e-3"/>
      <geometry>
        <box size="22e-3 15e-3 20e-3"/>
      </geometry>
    </collision>
    <!-- cartriage sledge -->
    <collision>
      <origin rpy="0 0 0" xyz="0 6.8e-3 2.2e-3"/>
      <geometry>
        <box size="22e-3 8.8e-3 3.8e-3"/>
      </geometry>
    </collision>
    <!-- diagonal finger -->
    <collision>
      <origin rpy="-0.5235987755982988 0 3.141592653589793" xyz="0 15.9e-3 28.35e-3"/>
      <geometry>
        <box size="17.5e-3 7e-3 23.5e-3"/>
      </geometry>
    </collision>
    <!-- rubber tip with which to grasp -->
    <collision>
      <origin rpy="0 0 0" xyz="0 7.58e-3 45.25e-3"/>
      <geometry>
        <box size="17.5e-3 15.2e-3 18.5e-3"/>
      </geometry>
    </collision>
    <inertial>
      <origin rpy="0 0 0" xyz="0 0.0152850 0.0219675"/>
      <mass value="0.0291"/>
      <inertia ixx="8.49e-06" ixy="0.0" ixz="0.0" iyy="8.53e-06" iyz="-1.06e-06" izz="1.77e-06"/>
    </inertial>
  </link>
  <joint name="fr3_finger_joint1" type="prismatic">
    <parent link="fr3_hand"/>
    <child link="fr3_leftfinger"/>
    <origin rpy="0 0 0" xyz="0 0 0.0584"/>
    <axis xyz="0 1 0"/>
    <limit effort="100" lower="0.0" upper="0.04" velocity="0.2"/>
    <dynamics damping="0.3"/>
  </joint>
  <joint name="fr3_finger_joint2" type="prismatic">
    <parent link="fr3_hand"/>
    <child link="fr3_rightfinger"/>
    <origin rpy="0 0 3.141592653589793" xyz="0 0 0.0584"/>
    <axis xyz="0 1 0"/>
    <limit effort="100" lower="0.0" upper="0.04" velocity="0.2"/>
    <mimic joint="fr3_finger_joint1"/>
    <dynamics damping="0.3"/>
  </joint>
  <!-- camera body, with origin at bottom screw mount -->
  <joint name="camera_joint" type="fixed">
    <origin rpy="0 -1.57 3.14" xyz="0.017 0.0 0.035"/>
    <parent link="fr3_hand"/>
    <child link="camera_bottom_screw_frame"/>
  </joint>
  <link name="camera_bottom_screw_frame"/>
  <joint name="camera_link_joint" type="fixed">
    <origin rpy="0 0 0" xyz="0.010600000000000002 0.0175 0.0125"/>
    <parent link="camera_bottom_screw_frame"/>
    <child link="camera_link"/>
  </joint>
  <link name="camera_link">
    <visual>
      <!-- the mesh origin is at front plate in between the two infrared camera axes -->
      <origin rpy="1.5707963267948966 0 1.5707963267948966" xyz="0.0043 -0.0175 0"/>
      <geometry>
        <mesh filename="file:///opt/ros/humble/share/realsense2_description/meshes/d435.dae"/>
      </geometry>
    </visual>
    <collision>
      <origin rpy="0 0 0" xyz="0 -0.0175 0"/>
      <geometry>
        <box size="0.02505 0.09 0.025"/>
      </geometry>
    </collision>
    <inertial>
      <!-- The following are not reliable values, and should not be used for modeling -->
      <mass value="0.072"/>
      <origin xyz="0 0 0"/>
      <inertia ixx="0.003881243" ixy="0.0" ixz="0.0" iyy="0.000498940" iyz="0.0" izz="0.003879257"/>
    </inertial>
  </link>
  <!-- camera depth joints and links -->
  <joint name="camera_depth_joint" type="fixed">
    <origin rpy="0 0 0" xyz="0 0 0"/>
    <parent link="camera_link"/>
    <child link="camera_depth_frame"/>
  </joint>
  <link name="camera_depth_frame"/>
  <joint name="camera_depth_optical_joint" type="fixed">
    <origin rpy="-1.5707963267948966 0 -1.5707963267948966" xyz="0 0 0"/>
    <parent link="camera_depth_frame"/>
    <child link="camera_depth_optical_frame"/>
  </joint>
  <link name="camera_depth_optical_frame"/>
  <!-- camera left IR joints and links -->
  <joint name="camera_infra1_joint" type="fixed">
    <origin rpy="0 0 0" xyz="0 0.0 0"/>
    <parent link="camera_link"/>
    <child link="camera_infra1_frame"/>
  </joint>
  <link name="camera_infra1_frame"/>
  <joint name="camera_infra1_optical_joint" type="fixed">
    <origin rpy="-1.5707963267948966 0 -1.5707963267948966" xyz="0 0 0"/>
    <parent link="camera_infra1_frame"/>
    <child link="camera_infra1_optical_frame"/>
  </joint>
  <link name="camera_infra1_optical_frame"/>
  <!-- camera right IR joints and links -->
  <joint name="camera_infra2_joint" type="fixed">
    <origin rpy="0 0 0" xyz="0 -0.05 0"/>
    <parent link="camera_link"/>
    <child link="camera_infra2_frame"/>
  </joint>
  <link name="camera_infra2_frame"/>
  <joint name="camera_infra2_optical_joint" type="fixed">
    <origin rpy="-1.5707963267948966 0 -1.5707963267948966" xyz="0 0 0"/>
    <parent link="camera_infra2_frame"/>
    <child link="camera_infra2_optical_frame"/>
  </joint>
  <link name="camera_infra2_optical_frame"/>
  <!-- camera color joints and links -->
  <joint name="camera_color_joint" type="fixed">
    <origin rpy="0 0 0" xyz="0 0.015 0"/>
    <parent link="camera_link"/>
    <child link="camera_color_frame"/>
  </joint>
  <link name="camera_color_frame"/>
  <joint name="camera_color_optical_joint" type="fixed">
    <origin rpy="-1.5707963267948966 0 -1.5707963267948966" xyz="0 0 0"/>
    <parent link="camera_color_frame"/>
    <child link="camera_color_optical_frame"/>
  </joint>
  <link name="camera_color_optical_frame"/>
  <joint name="mid_mount_fixed" type="fixed">
    <parent link="mid_mount"/>
    <child link="fr3_link0"/>
    <origin rpy="0 0 -1.57" xyz="0 0 0"/>
  </joint>
</robot>
